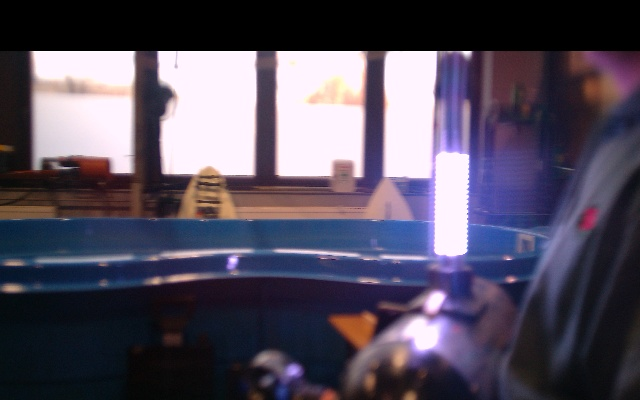white: (435, 151, 469, 255)
